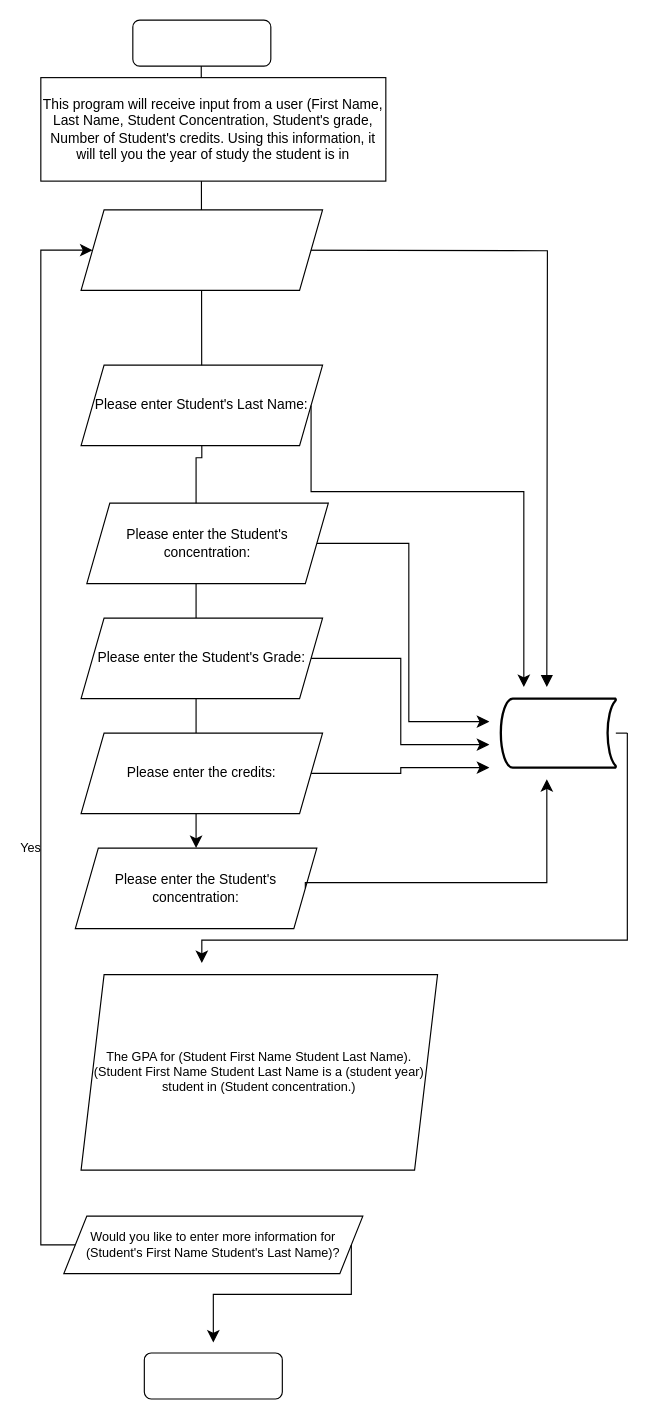
Image size: 659x1419. Some labels were removed from this diagram. Here are the shapes that lost their labels. From the top down, the centre of each, then its label:
the point at 201,42: Start
the point at 201,249: Please enter Student's First Name:
the point at 557,732: Stored Data
the point at 212,1375: End
